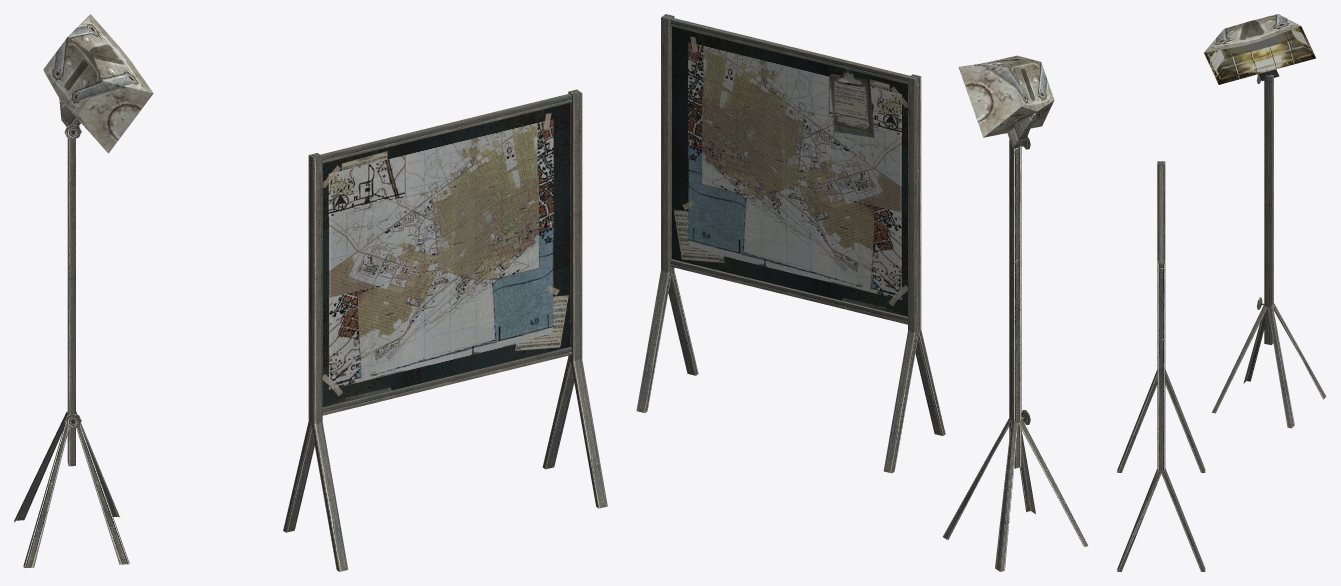
Rendered from cinmap.glb.
The picture shows the model from 3 angles, left to right: view 1: azimuth 30°, elevation 25°; view 2: azimuth 150°, elevation 25°; view 3: azimuth 270°, elevation 25°; orthographic projection. The views are drawn at different scales.
Parts seen in each view (by area): view 1: _cinmap; view 2: _cinmap; view 3: _cinmap.
Boxes of the visible parts, bbox=[...] form: _cinmap: bbox=[14, 14, 607, 571]; _cinmap: bbox=[636, 14, 1088, 571]; _cinmap: bbox=[1117, 14, 1326, 571].
Size of the model in its own units: 3.38 by 3.25 by 1.56.
Materials: 1 (1 with a texture image).
